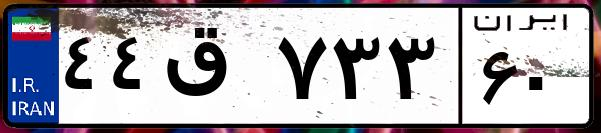0: (525, 38, 570, 115)
3: (385, 28, 445, 110), (330, 28, 385, 110)
4: (57, 26, 110, 100), (110, 28, 158, 98)
6: (475, 38, 525, 113)
7: (270, 28, 330, 110)
ق: (158, 20, 270, 120)
